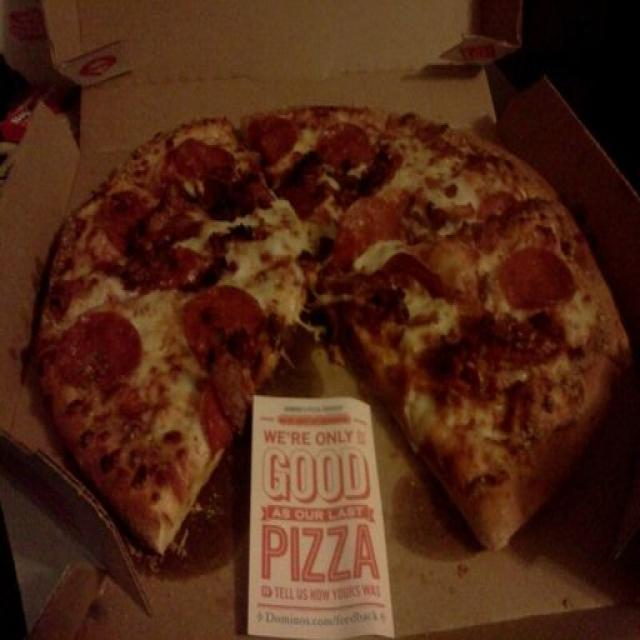Pepperoni: (56, 303, 142, 392), (182, 298, 268, 363), (458, 306, 546, 363), (502, 246, 574, 312), (335, 200, 401, 271), (389, 248, 456, 304), (206, 364, 249, 450), (166, 140, 233, 195), (132, 241, 207, 289), (102, 197, 159, 255), (319, 116, 366, 162), (475, 183, 524, 217), (279, 170, 322, 208), (258, 118, 295, 154)
Pizza: (41, 108, 630, 548)
